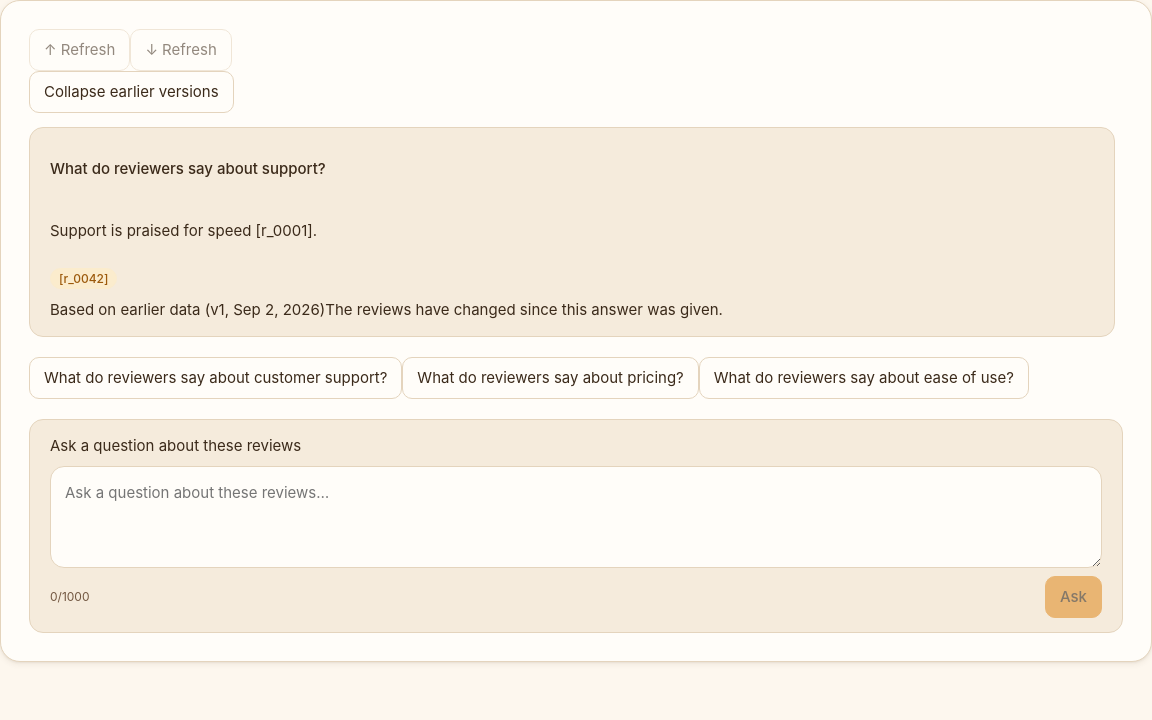
Test case: ChatPanel — citations, decline tag, stale chip (Req 2.2, 3.4, 9.4) › reveals a citation popover reading the saved snippet on a stale Exchange
Hover over the button with test id "citation-chip-button" at (84, 279), box [50,268,117,289]
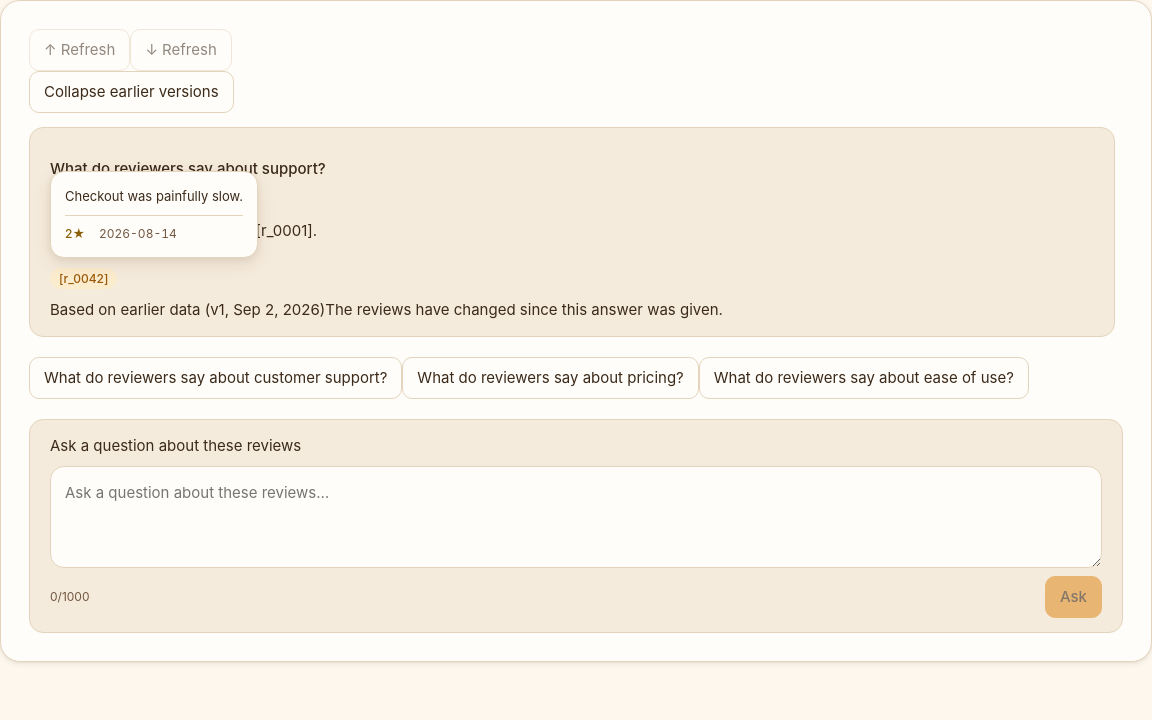
Check: the text with test id "citation-popover-text" reads "Checkout was painfully slow.", box [65,188,243,204]
